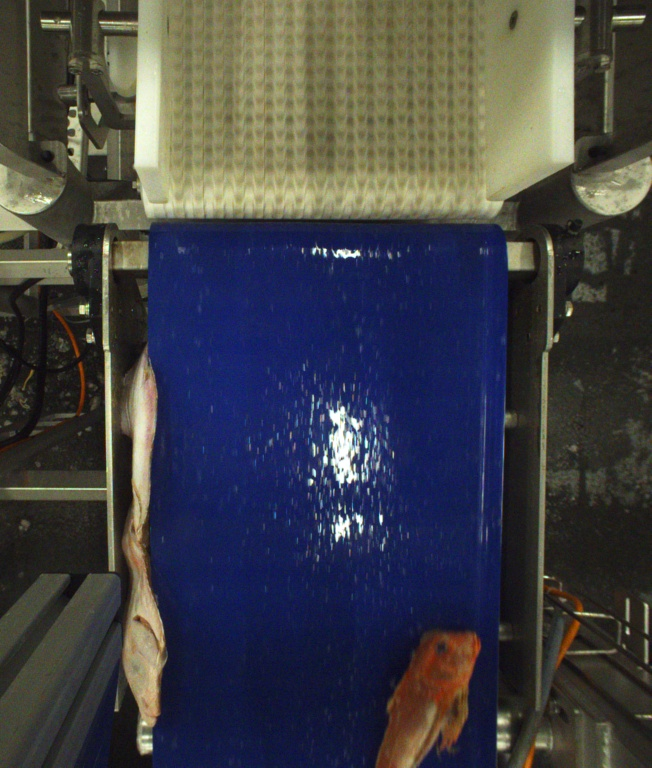GUU: (376, 631, 481, 768)
